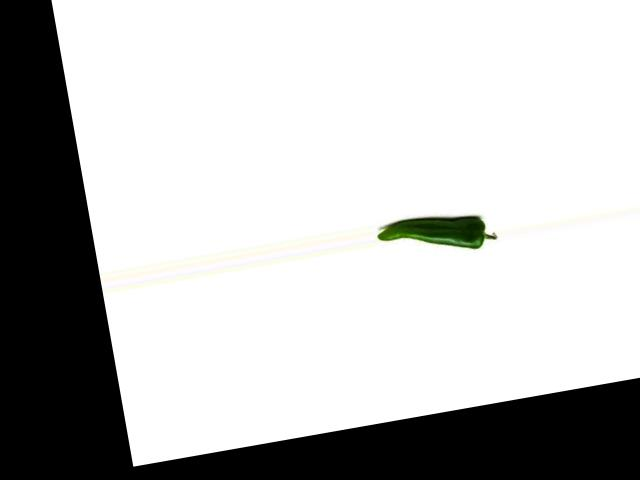bell_pepper: (374, 201, 502, 267)
